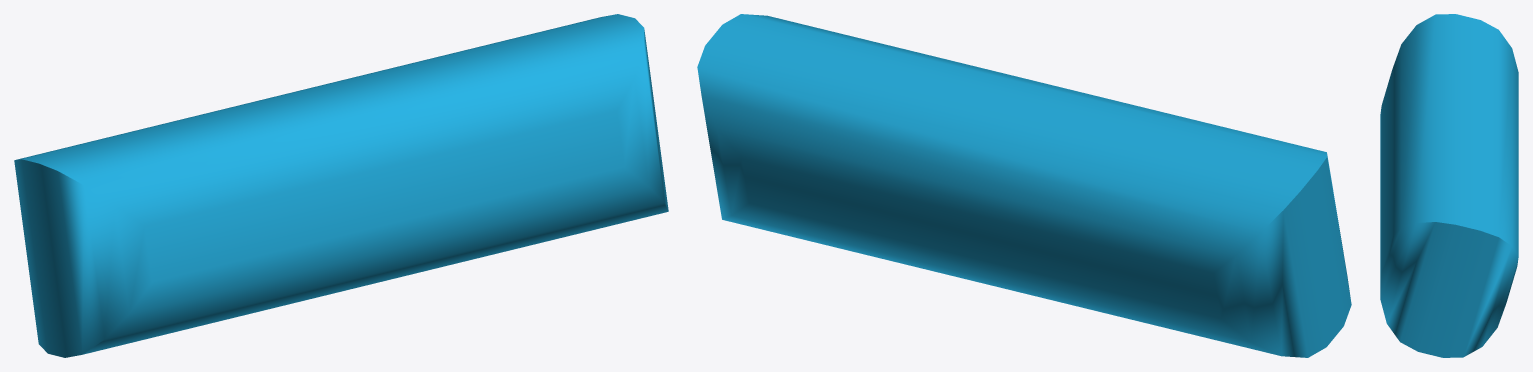
Rendered from Cushion_3.fbx.
3 renders of one model, left to right at view 1: azimuth 30°, elevation 25°; view 2: azimuth 150°, elevation 25°; view 3: azimuth 270°, elevation 25°, orthographic. The views are drawn at different scales.
Visible parts, largest first — view 1: pCube11; view 2: pCube11; view 3: pCube11.
Part boxes in pixels (x1,y1,x2,y2): pCube11: [14, 14, 668, 357]; pCube11: [697, 14, 1351, 357]; pCube11: [1380, 14, 1518, 357].
Size of the model in its own units: 1 by 0.3 by 0.2775.
